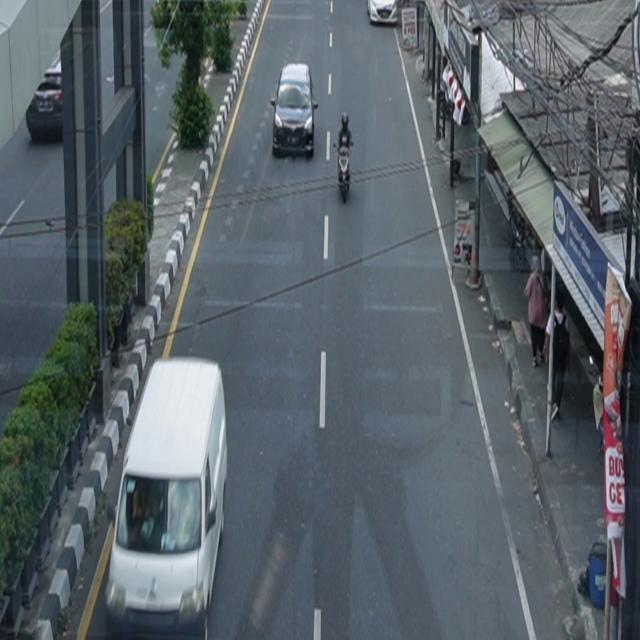bus: (105, 357, 229, 639)
car: (271, 63, 319, 158), (26, 74, 64, 142), (367, 1, 398, 26)
